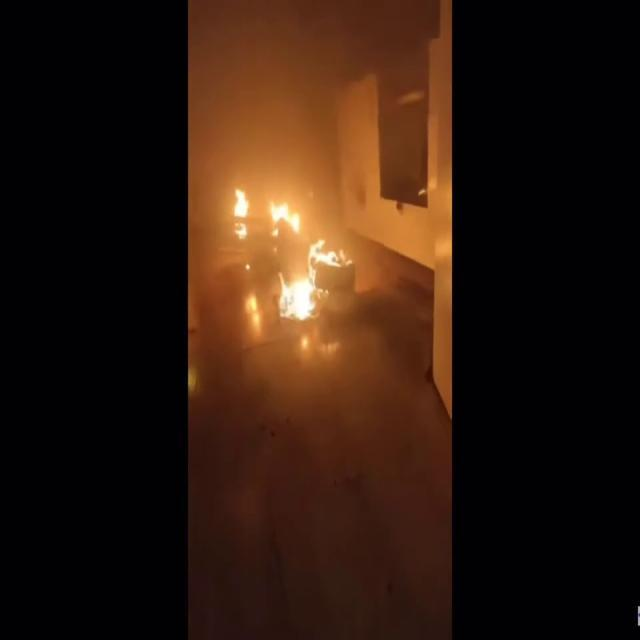Fire: (234, 187, 344, 329)
Smoke: (188, 0, 444, 213)
